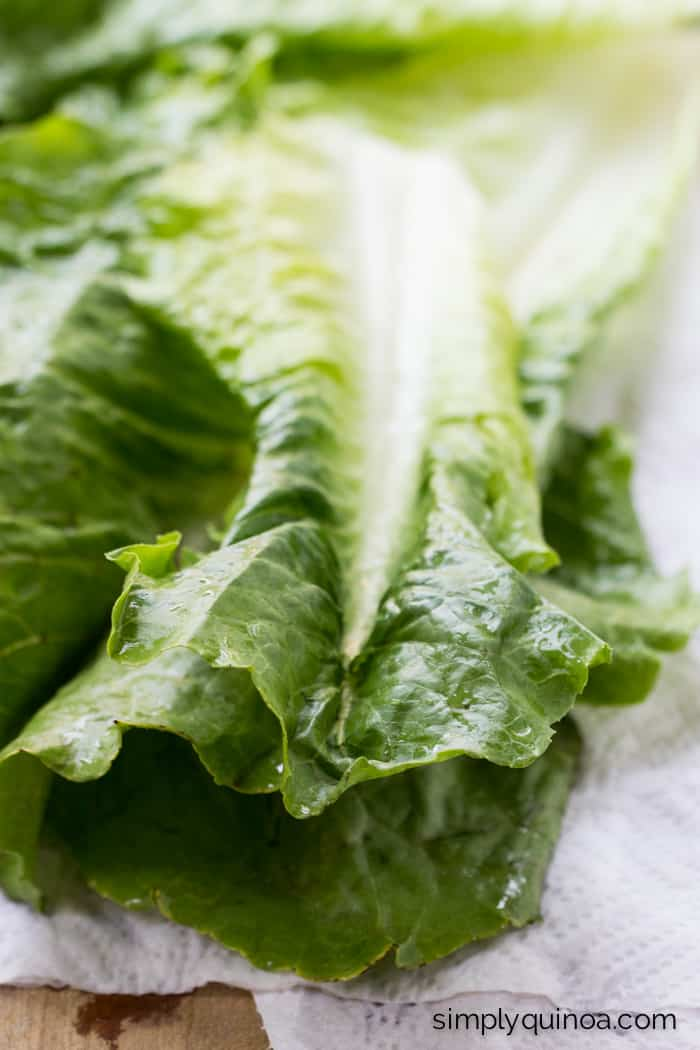chopped lettuce: (1, 112, 531, 928)
